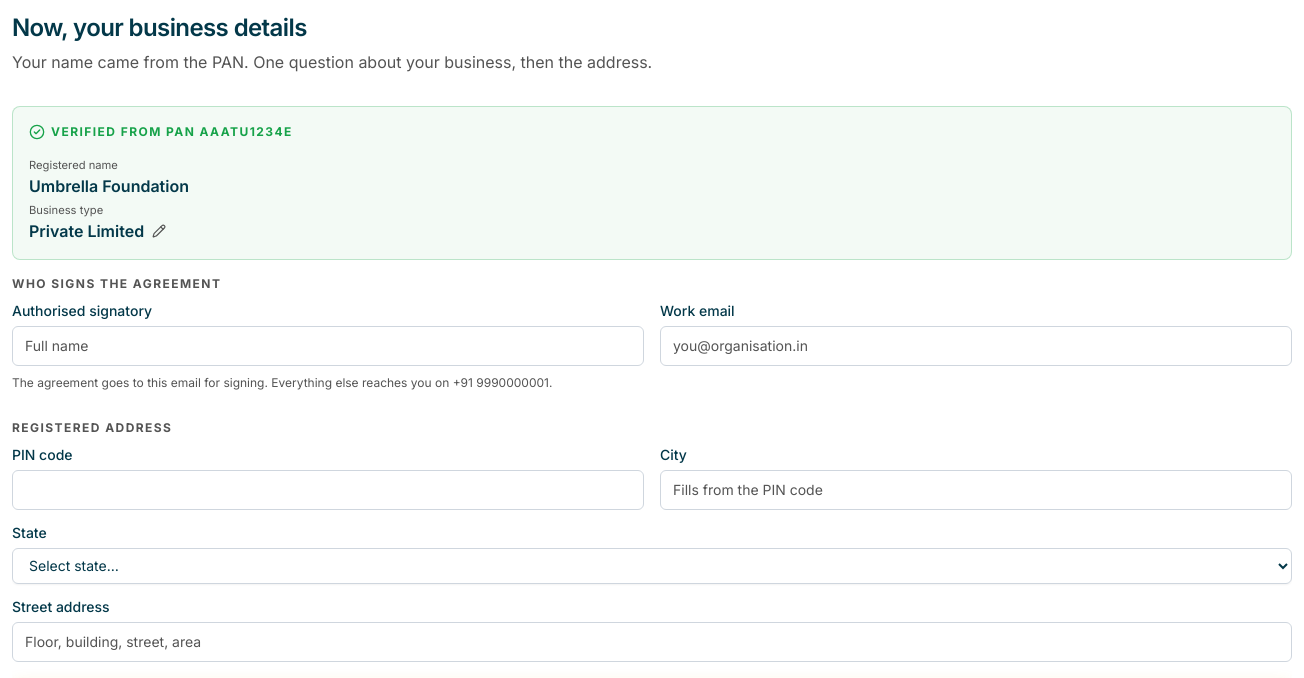
BusinessStep verified-from-PAN box › reveals the question when the type is edited, and drops it from the box
Click the button named "change business type". click: (159,231)
box: [152,224,166,238]
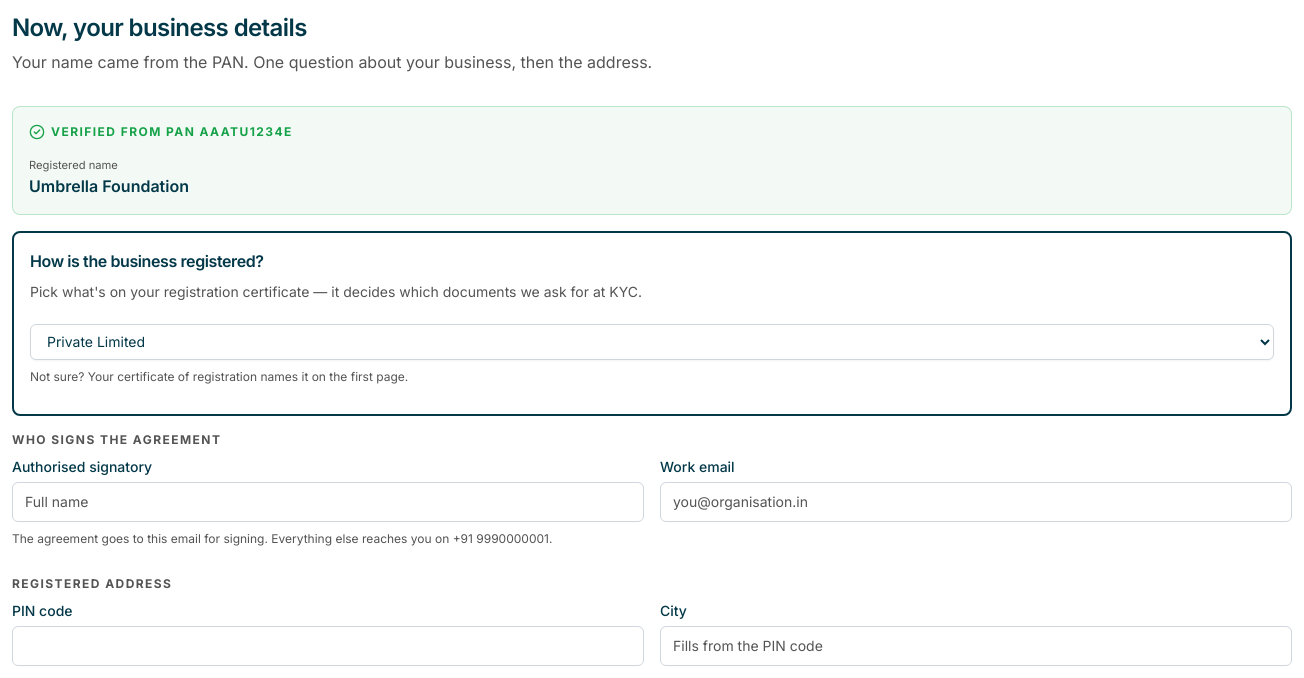
Expected: the text "Umbrella Foundation" is shown, [29,176,189,196]
Expected: the heading "How is the business registered?" is shown, [30,251,264,271]
Expected: the dropdown named "business type" shows "Private Limited", [30,324,1274,360]
